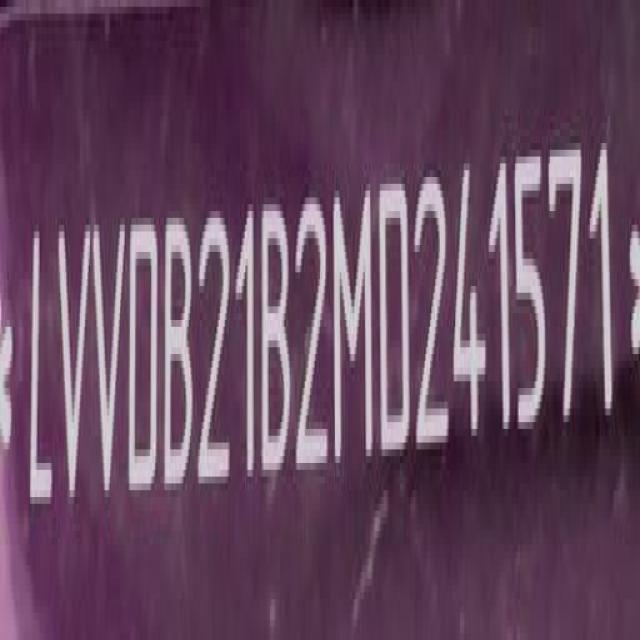1: (487, 131, 514, 436), (588, 138, 614, 424), (237, 184, 258, 487)
2: (197, 199, 234, 502), (292, 196, 330, 472), (413, 169, 449, 454)
4: (450, 149, 487, 444)
5: (513, 148, 549, 428)
7: (547, 128, 585, 428)
B: (258, 192, 292, 482), (161, 210, 194, 490)
D: (378, 174, 411, 446), (128, 199, 156, 497)
L: (29, 192, 57, 540)
M: (332, 184, 376, 462)
V: (59, 194, 91, 535), (93, 184, 124, 520)
